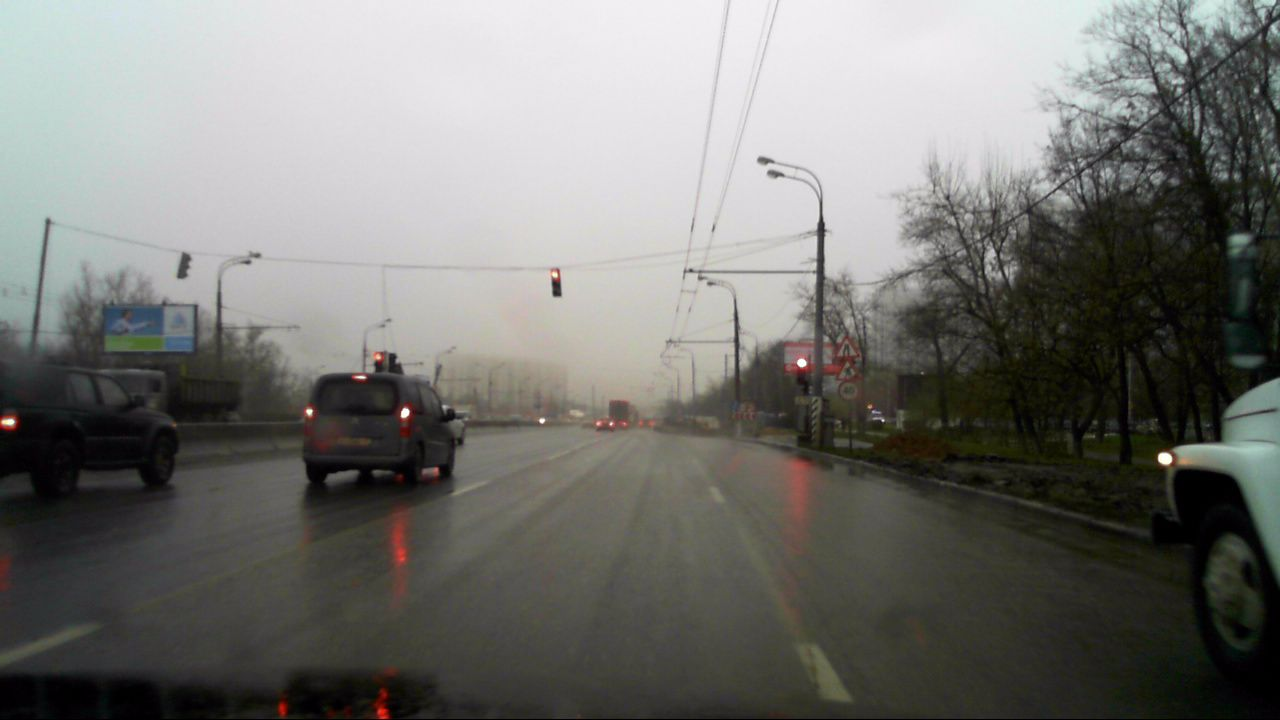speed_warning_40: (838, 382, 858, 400)
